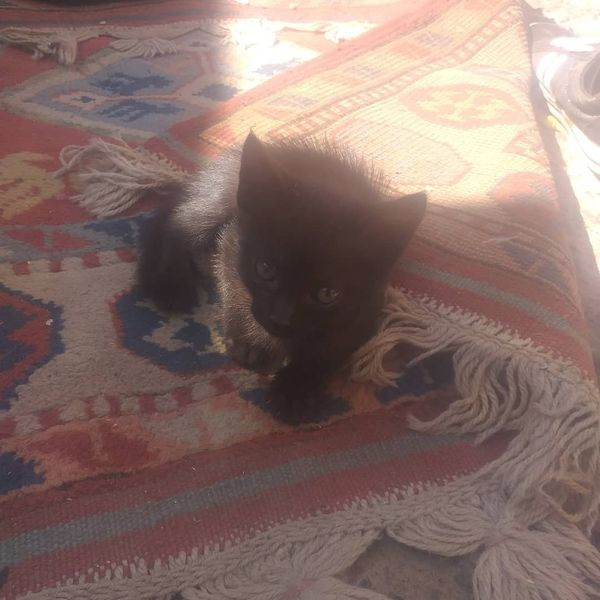cat: (83, 89, 458, 413)
